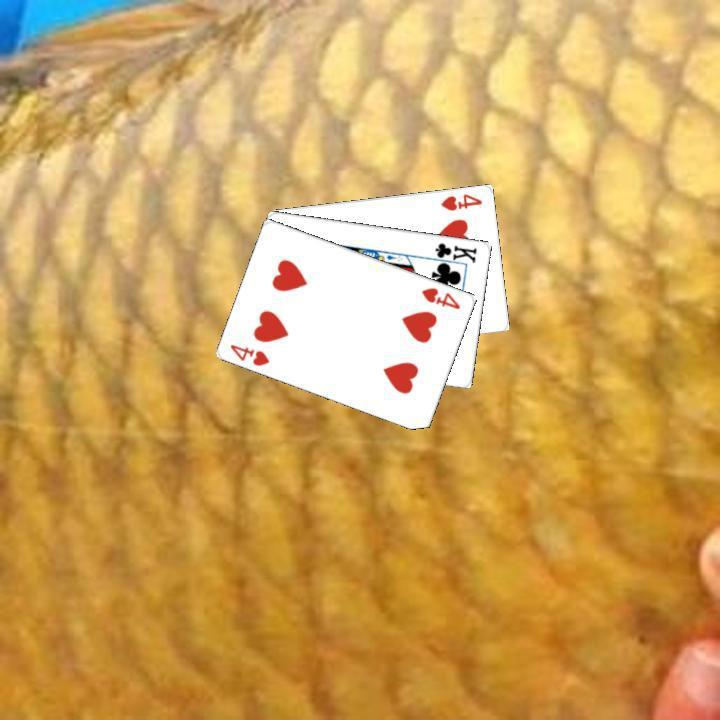4: (417, 283, 463, 311), (226, 340, 272, 368), (437, 189, 484, 212)
K: (425, 238, 479, 268)
